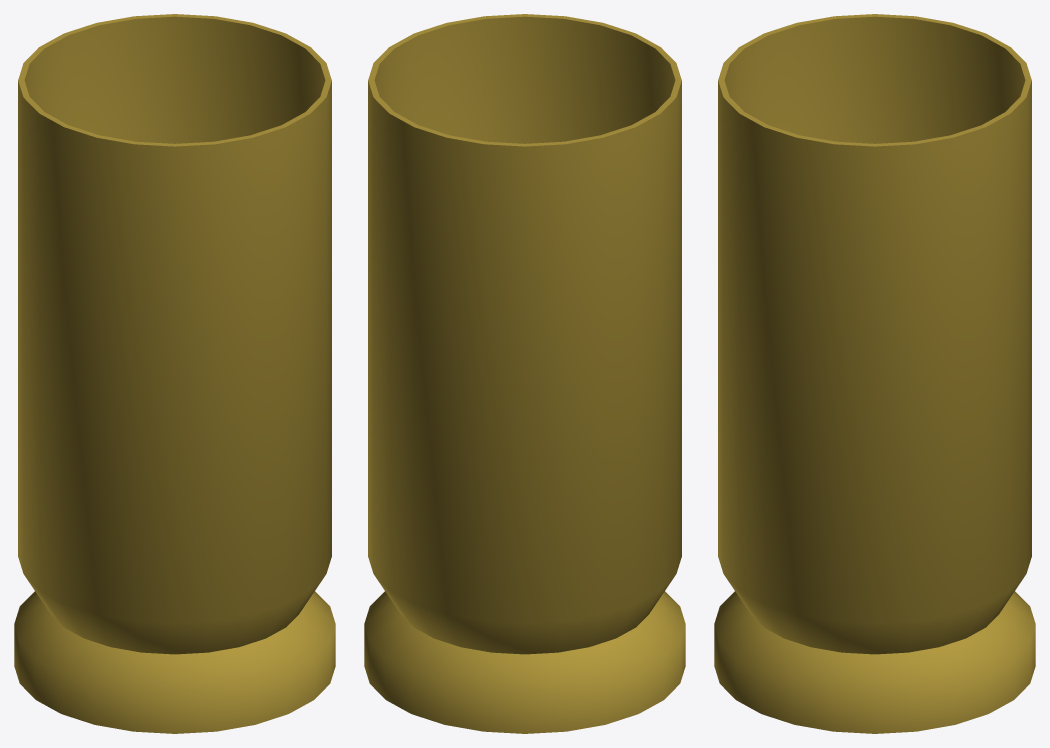
File: 45_acp.dae
3 renders of one model, left to right at view 1: azimuth 30°, elevation 25°; view 2: azimuth 150°, elevation 25°; view 3: azimuth 270°, elevation 25°, orthographic.
Visible parts, largest first — view 1: Component_212; view 2: Component_212; view 3: Component_212.
Boxes of the visible parts, x1=… form: Component_212: x1=14, y1=14, x2=335, y2=733; Component_212: x1=364, y1=14, x2=685, y2=733; Component_212: x1=714, y1=14, x2=1035, y2=733.
Size of the model in its own units: 0.4773 by 0.4773 by 0.9673.
